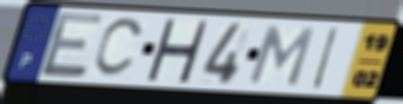4: (201, 21, 245, 87)
C: (90, 16, 148, 80)
E: (38, 10, 106, 79)
H: (143, 17, 211, 85)
I: (309, 25, 342, 92)
M: (245, 24, 318, 89)
